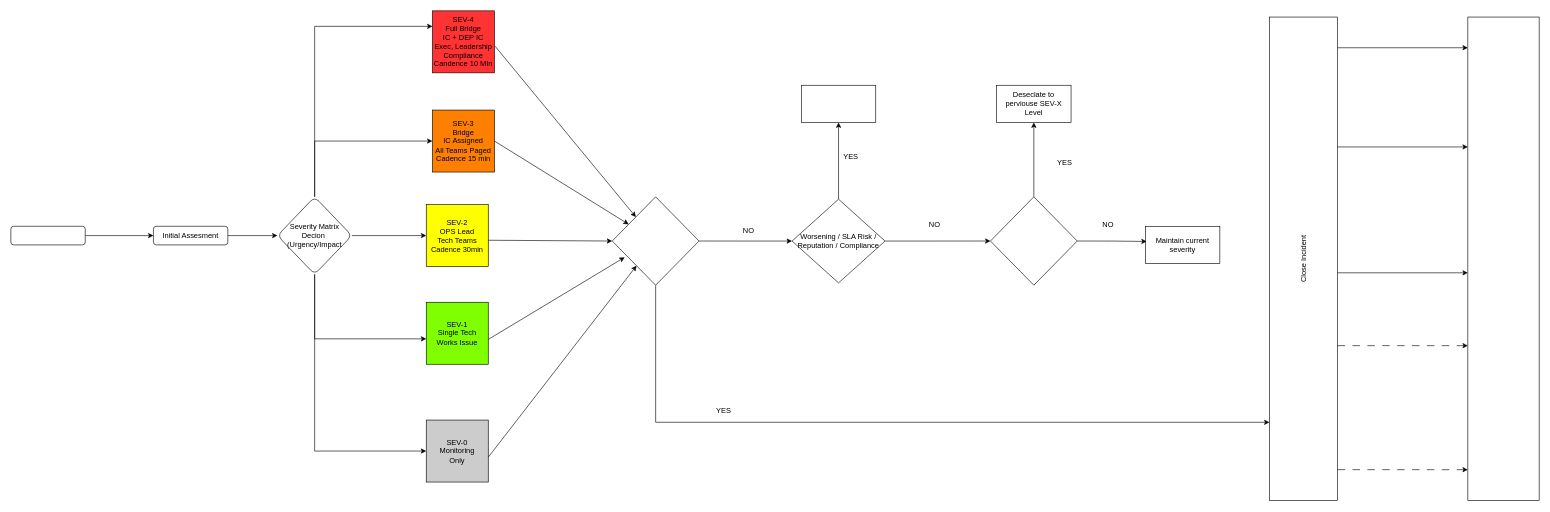
This 1550x512 diagram has some shape labels left out. Each missing label, with the centre of its shape:
Escalate to the Next SEV-X Level: the point at 838,103
Has the incident improving?: the point at 1033,240
Incident: the point at 47,235
Is the incident resolved?: the point at 655,240
RCA: the point at 1503,258
